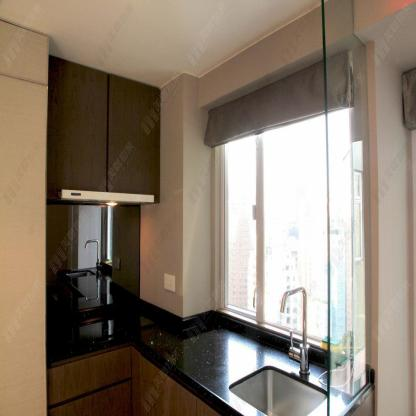Exhaust Hood: (57, 189, 154, 204)
Faucet: (276, 280, 314, 381)
Sink: (201, 345, 330, 416)
